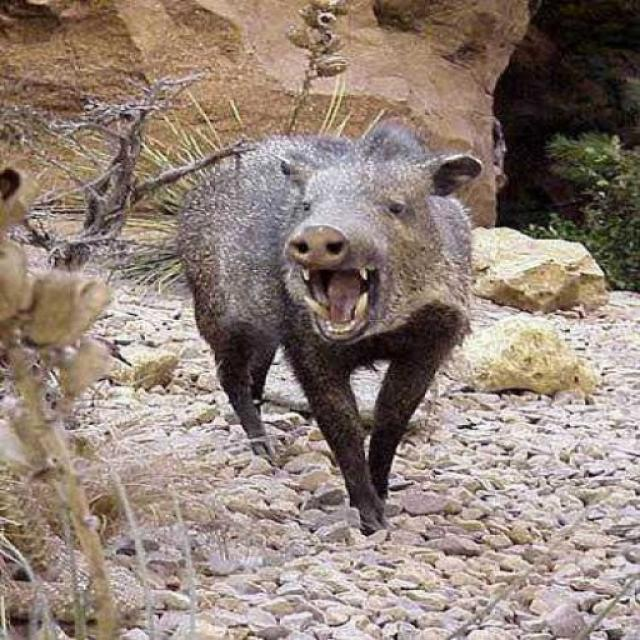pig: (156, 98, 570, 545)
